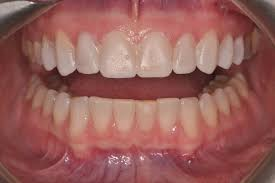normal: (74, 32, 99, 73), (156, 99, 178, 131), (179, 98, 197, 137), (198, 94, 218, 124), (40, 33, 55, 72), (71, 97, 87, 132), (218, 33, 233, 70), (54, 92, 69, 126), (233, 33, 244, 66), (224, 86, 240, 107), (217, 90, 230, 115), (231, 76, 246, 97), (33, 40, 40, 63)
rough: (99, 32, 136, 78)
yellow: (137, 30, 171, 78), (195, 33, 217, 75), (88, 96, 111, 134), (172, 34, 194, 73), (56, 32, 75, 76), (112, 100, 135, 131), (135, 100, 155, 132), (32, 86, 44, 112), (44, 89, 54, 119)
